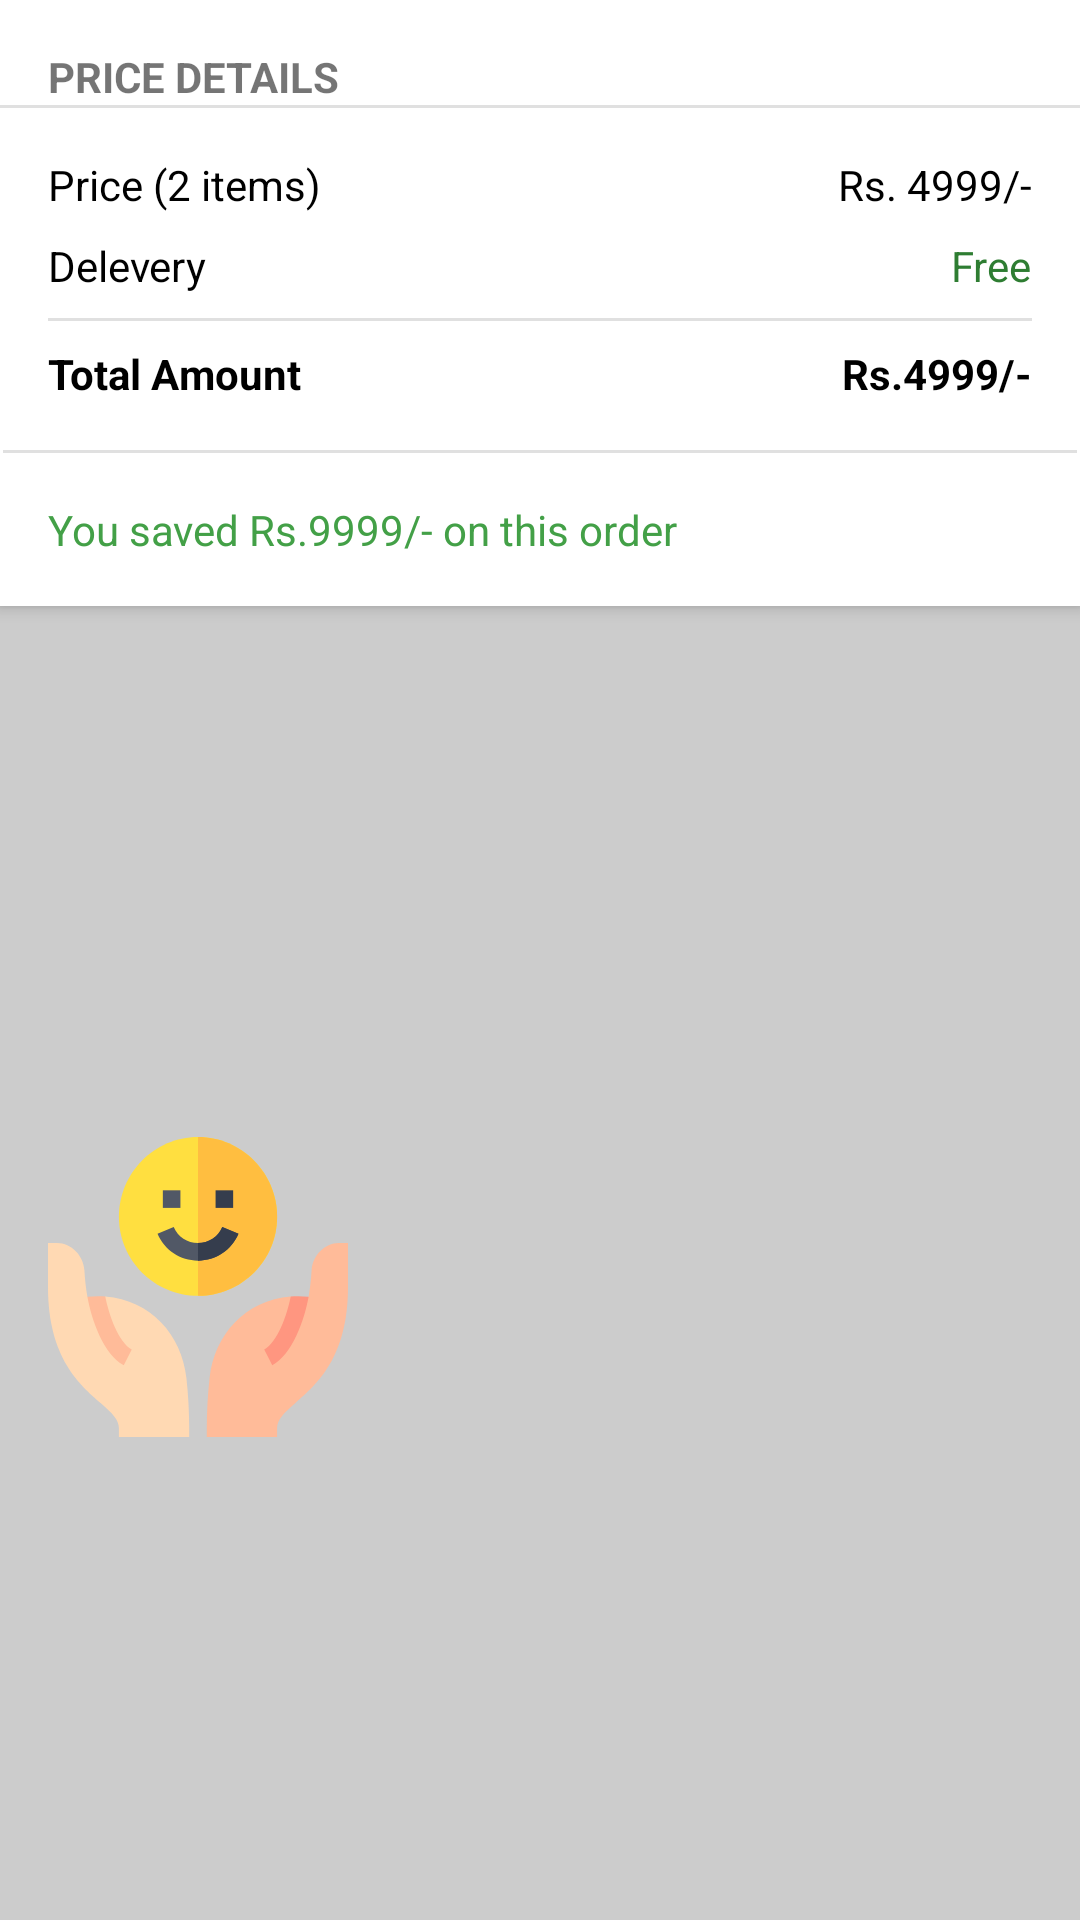

Where icons sit on this 1080px×1920px app screen, as (x1, y1, x2, y2):
happiness: (48, 1137, 348, 1437)
